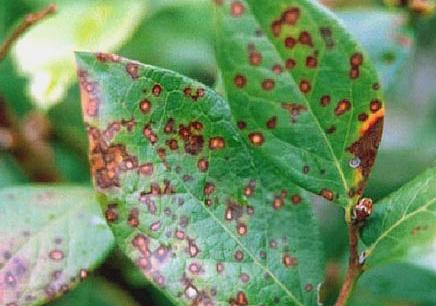Tomato Septoria leaf spot: (70, 46, 328, 306), (201, 0, 381, 235)
